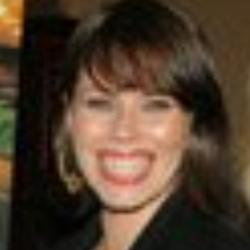face: (32, 5, 230, 223)
